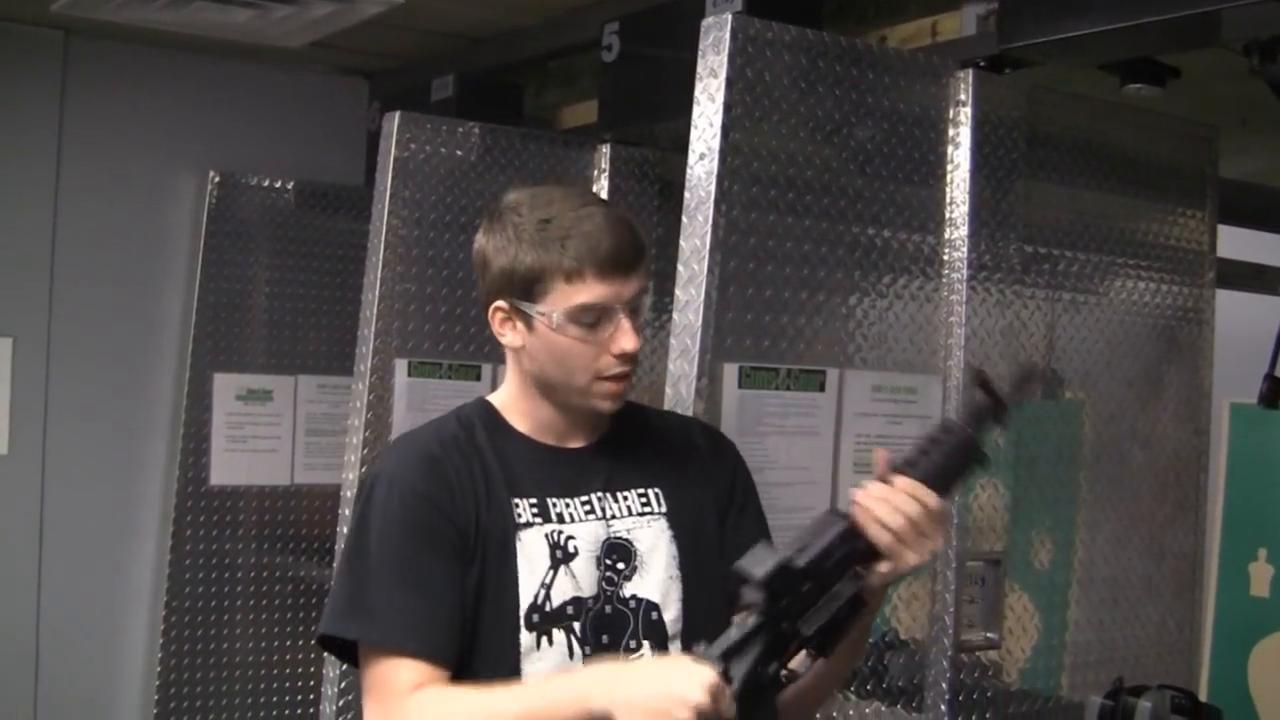M4 Rifle: (700, 351, 1037, 698)
